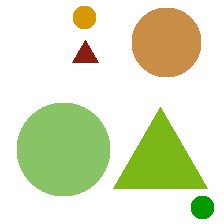circle: (17, 103, 109, 195), (132, 8, 200, 76), (73, 6, 95, 28), (191, 196, 213, 218)
triangle: (113, 107, 207, 188), (72, 40, 98, 62)
